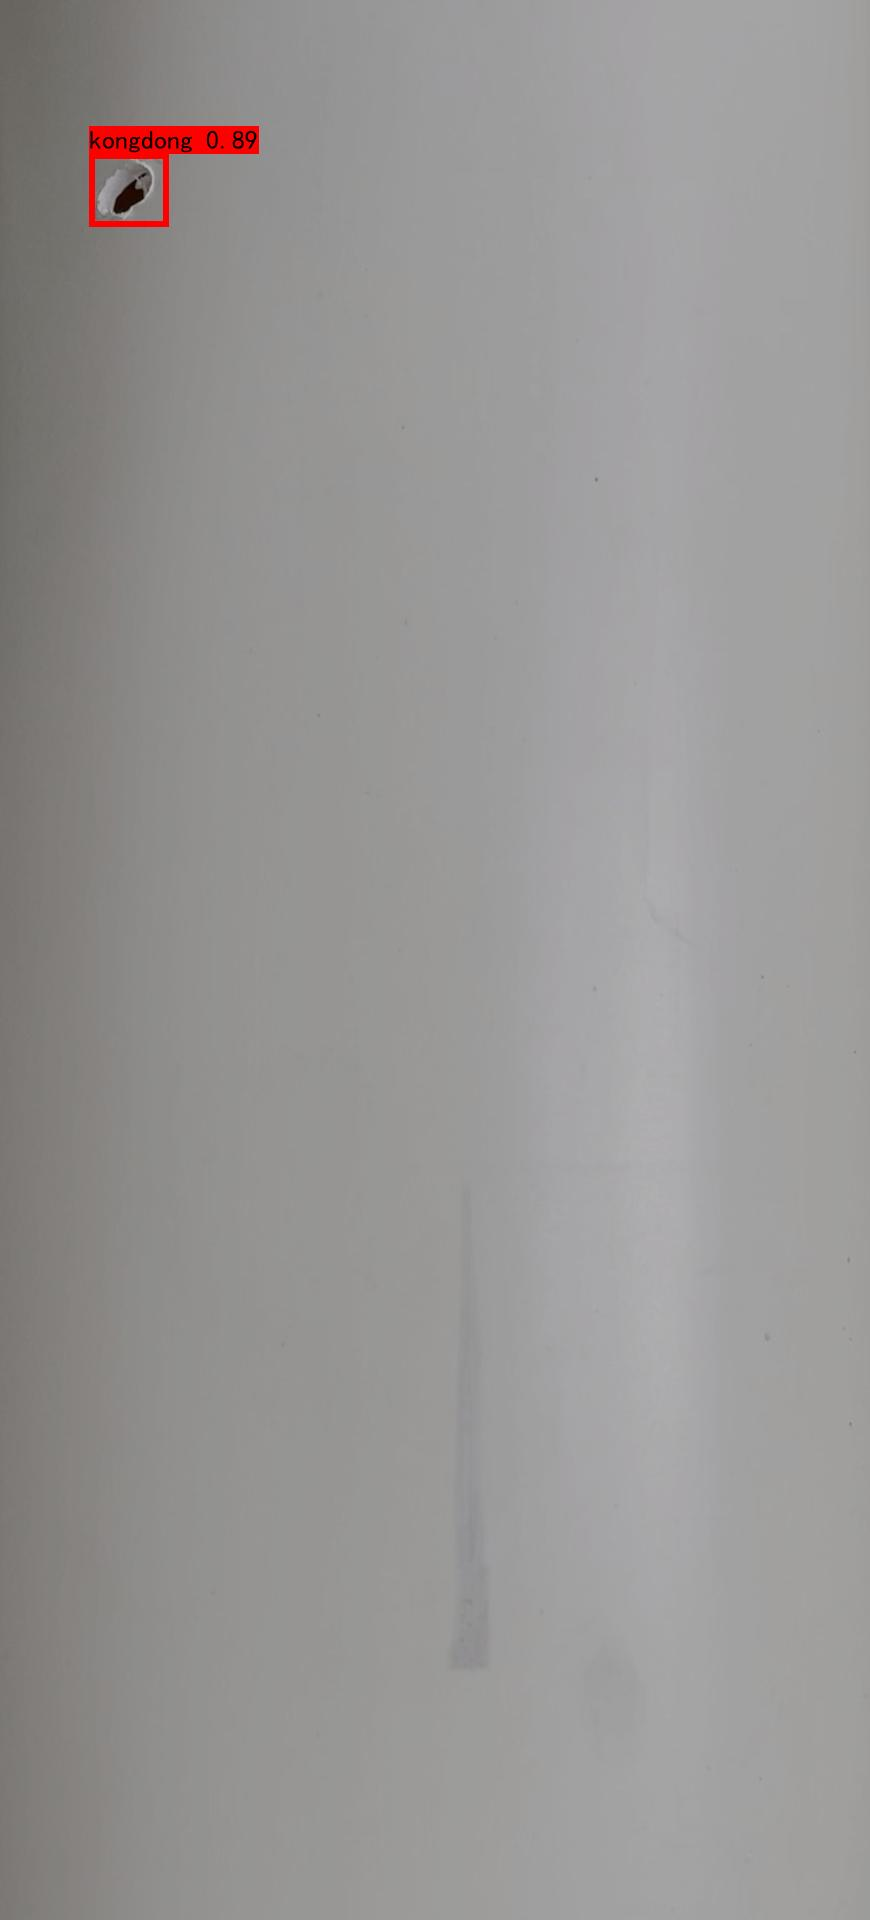kongdong: (96, 149, 161, 229)
